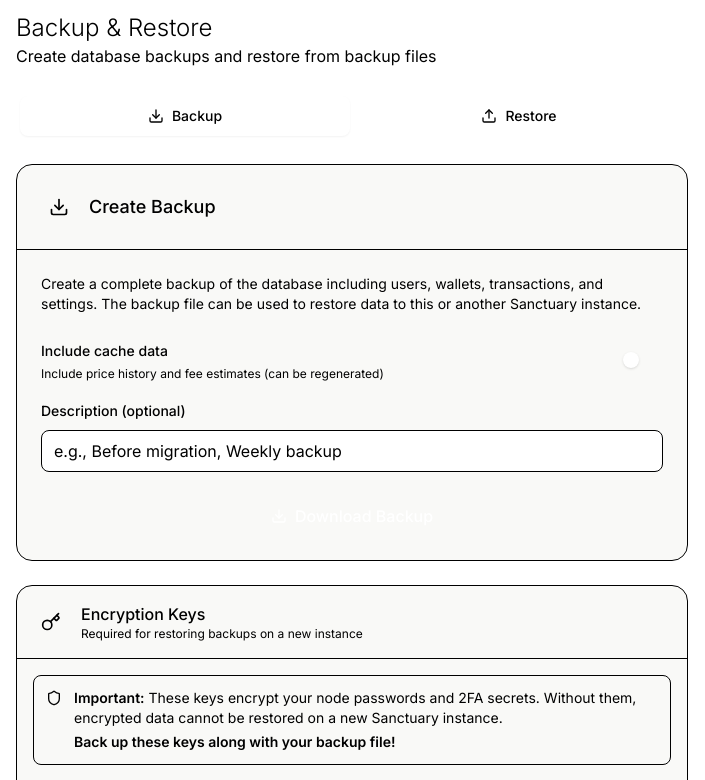
Test case: BackupRestore Component › should switch to restore tab when clicked
# Click the Restore tab
Step 1. Click the button "Restore" → x=519, y=116, box [354, 96, 684, 136]
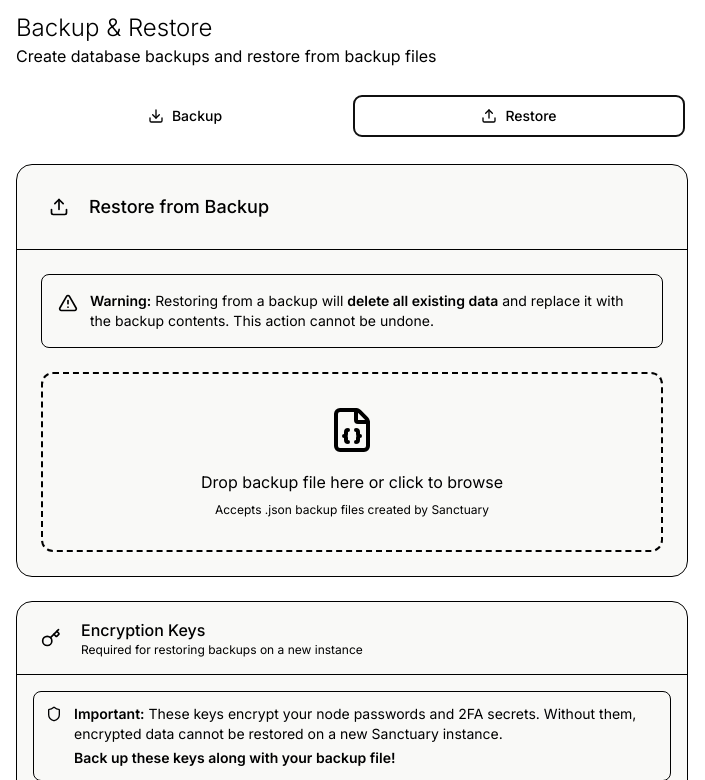
expect the heading "Restore from Backup" is shown: met, box [89, 193, 269, 221]
